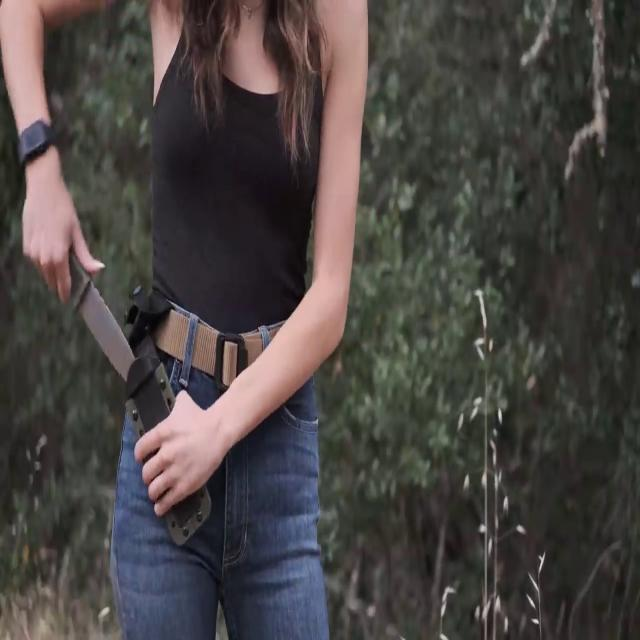Knife: (28, 199, 157, 400)
